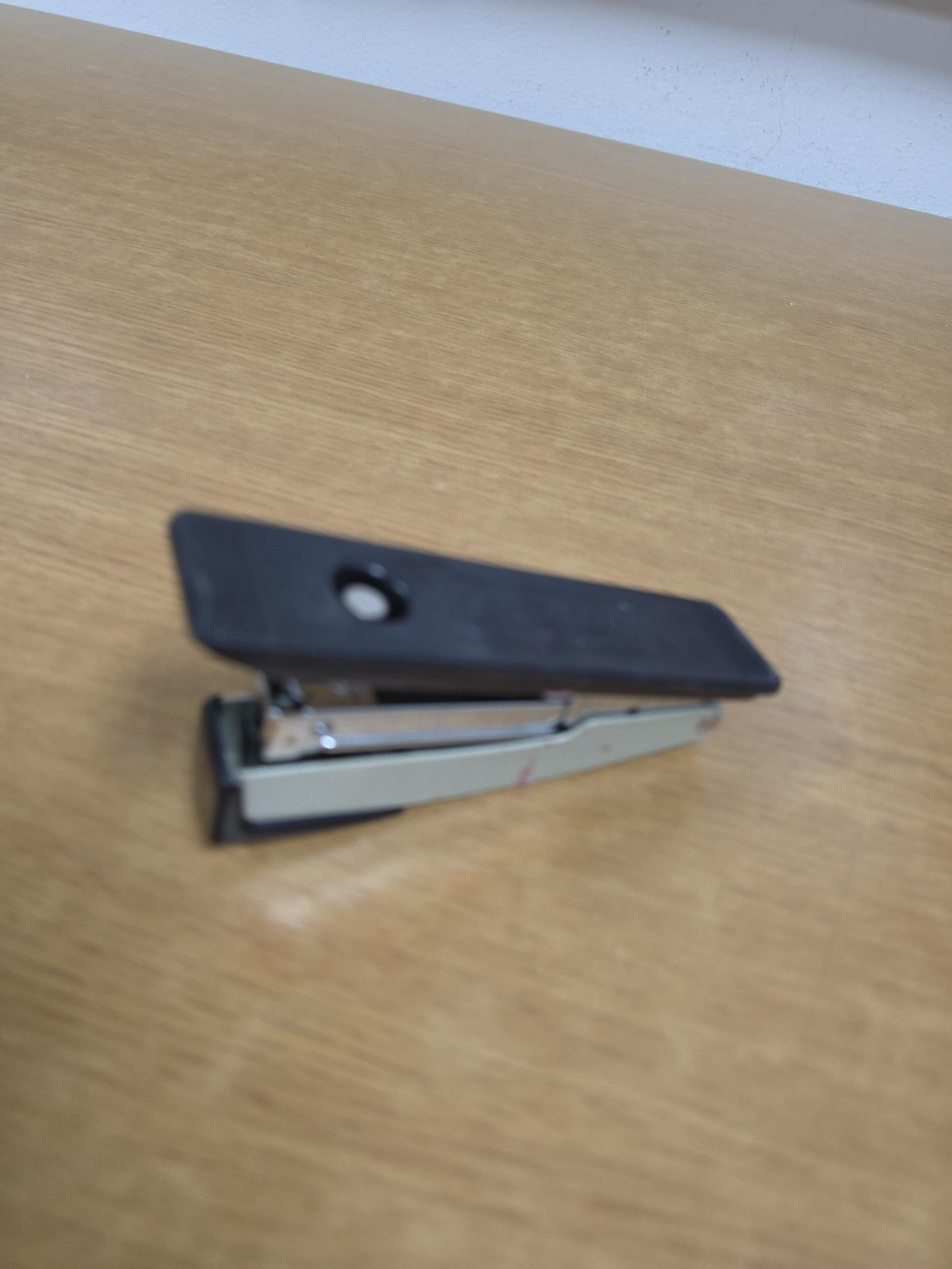stapler: (169, 510, 783, 846)
